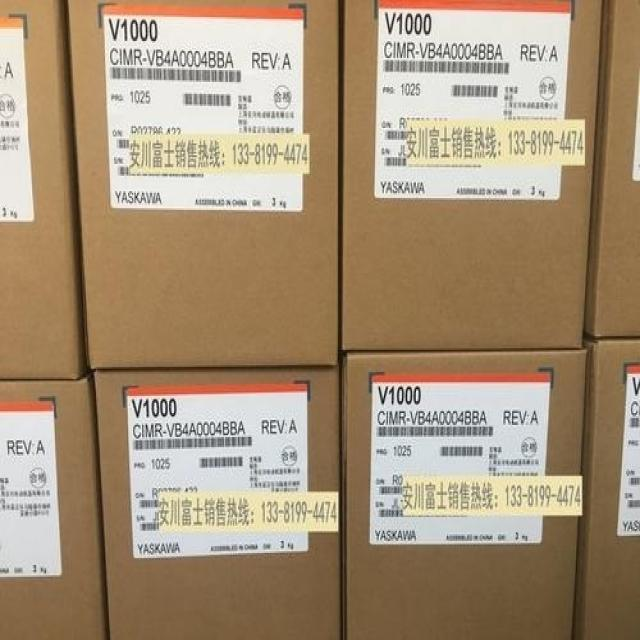Carton: (65, 2, 337, 638), (342, 0, 599, 350), (343, 352, 582, 638)
